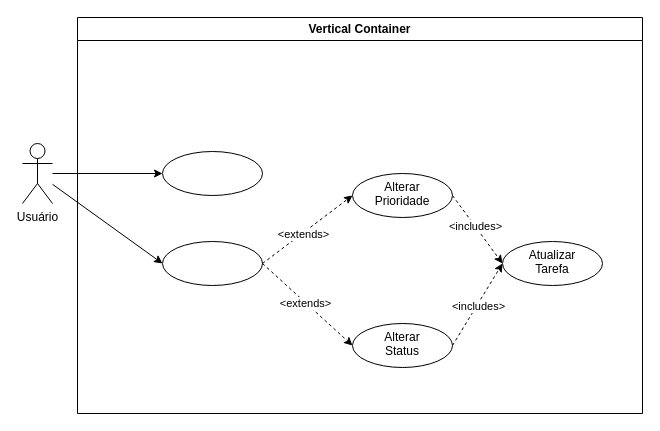
Image size: 660x431. Some labels were removed from this diagram. The centre of each missing label's shape, as x and y in pixels:
"Cadastrar Tarefas" goes at point (212, 173).
"Selecionar Tarefa" goes at point (212, 263).
